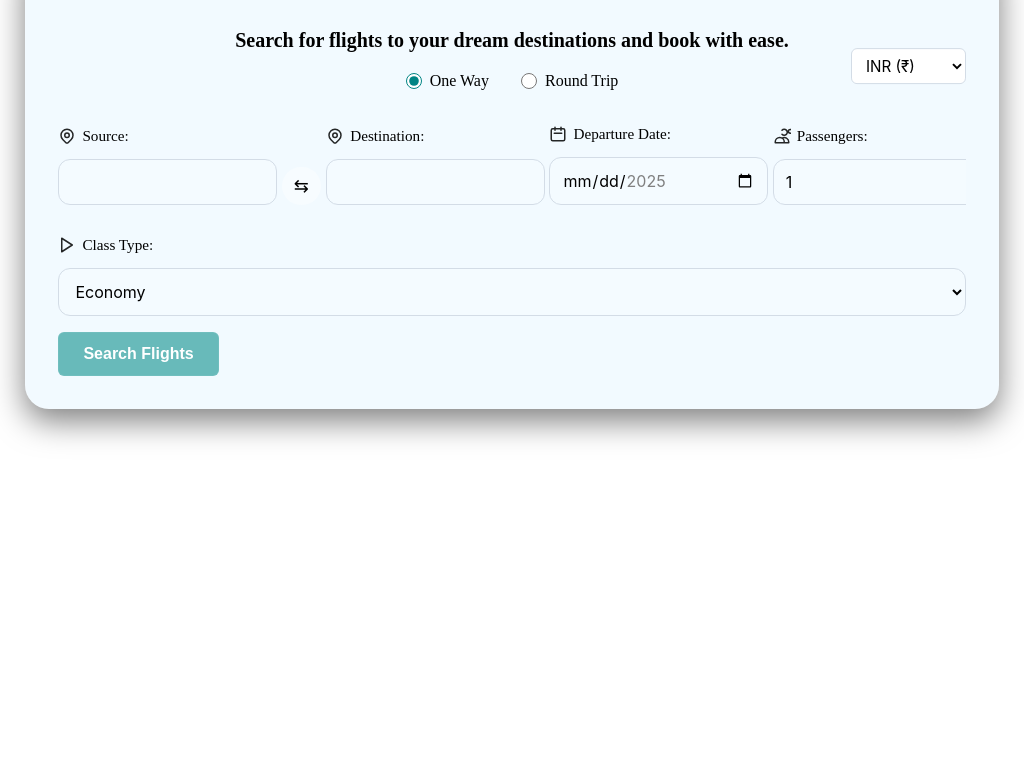
Test: Test for FlightSearchForm /> › should submit the form and display round trip flights on success
The image size is (1024, 768).
In the field labelled "Source:": (168, 182) [58,159,277,205], type "Mumbai"
In the field labelled "Destination:": (436, 182) [326,159,545,205], type "Delhi"
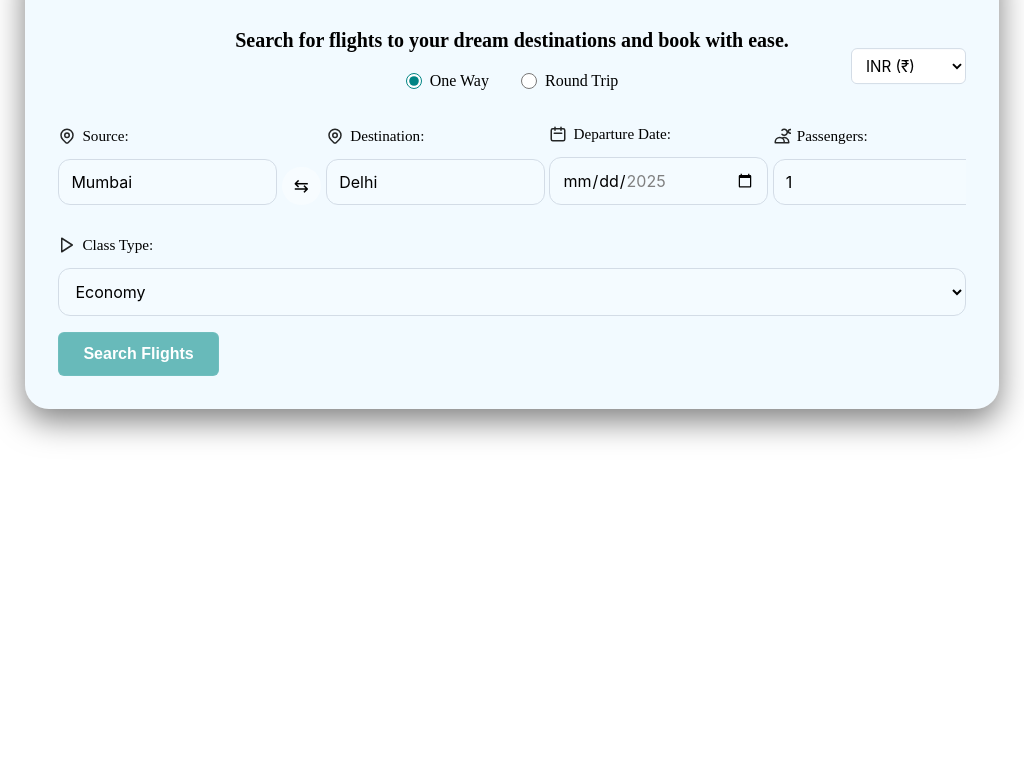
In the date field labelled "Departure Date:": (659, 181) [550,157,768,205], type "2025-08-10"
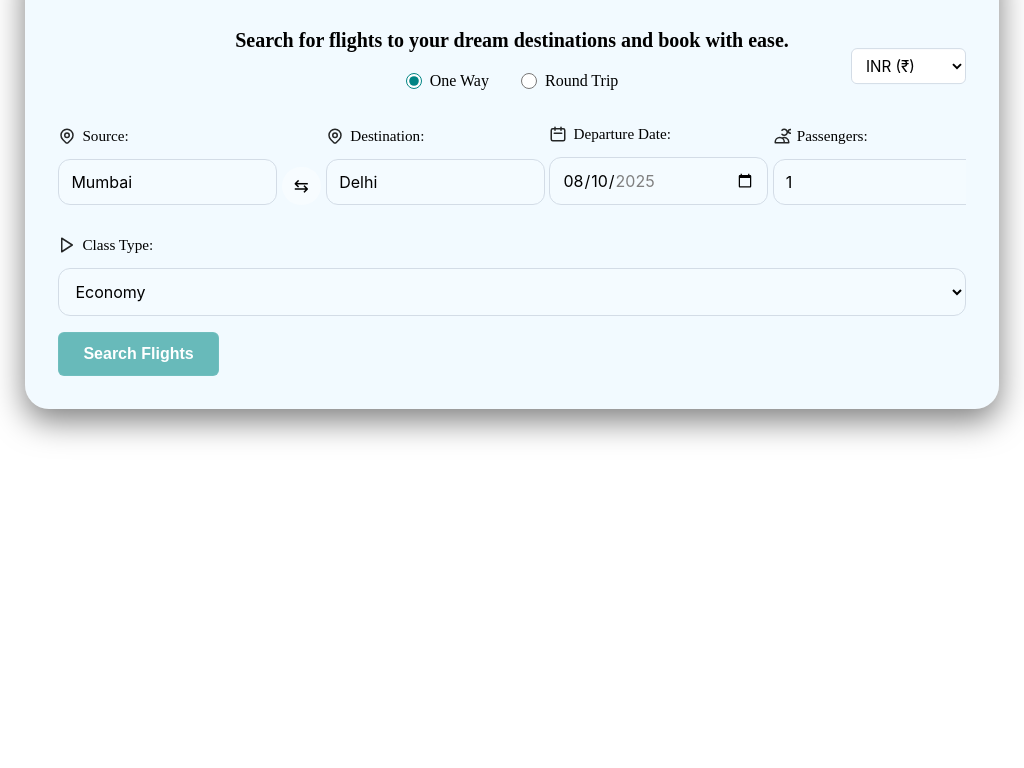
Click the radio button labelled "Round Trip": (529, 81) [521,73,537,89]
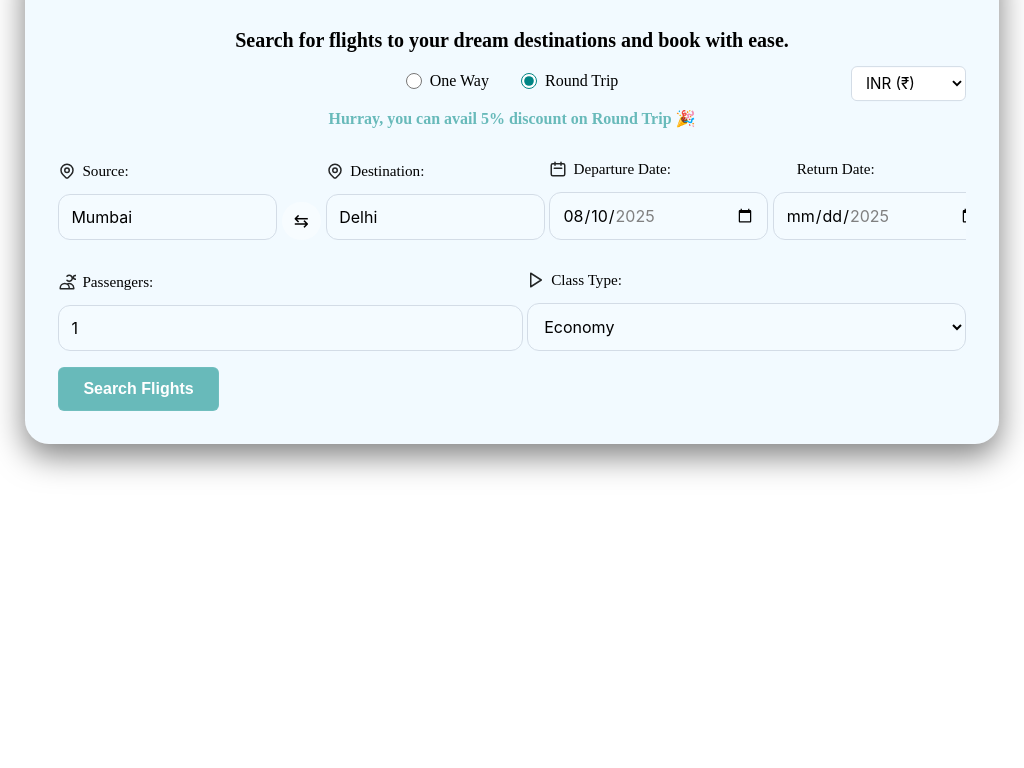
In the date field labelled "Return Date:": (882, 216) [773,192,992,240], type "2025-08-15"
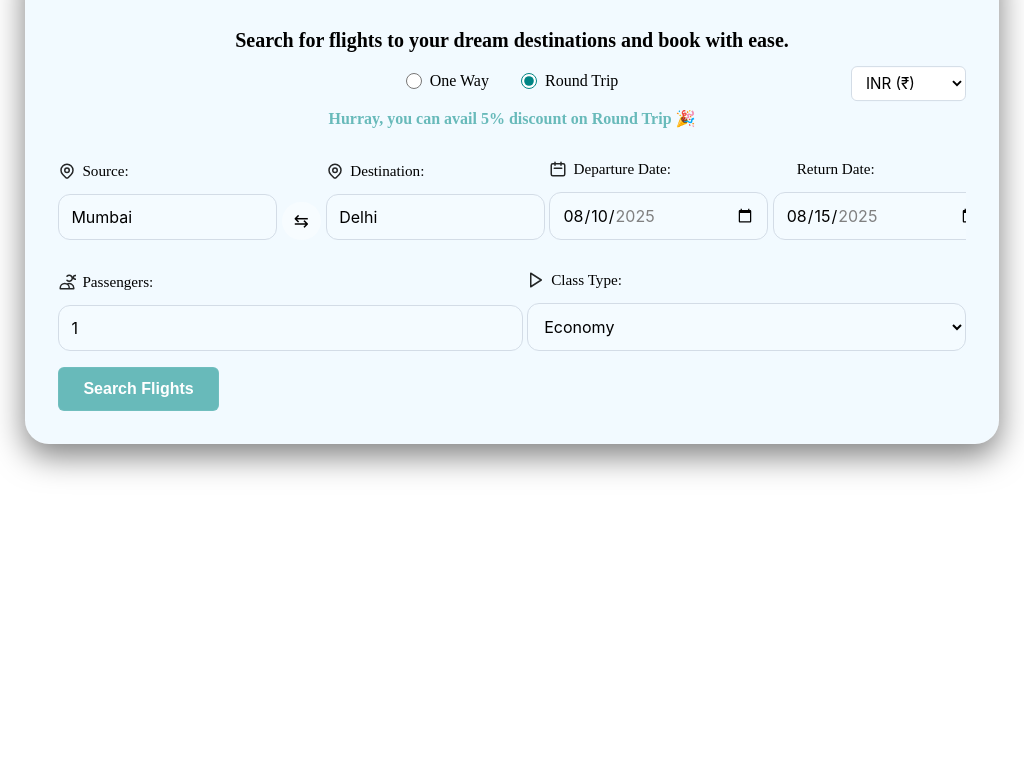
Submit the form from the button "Search Flights", box [58,367,219,411]
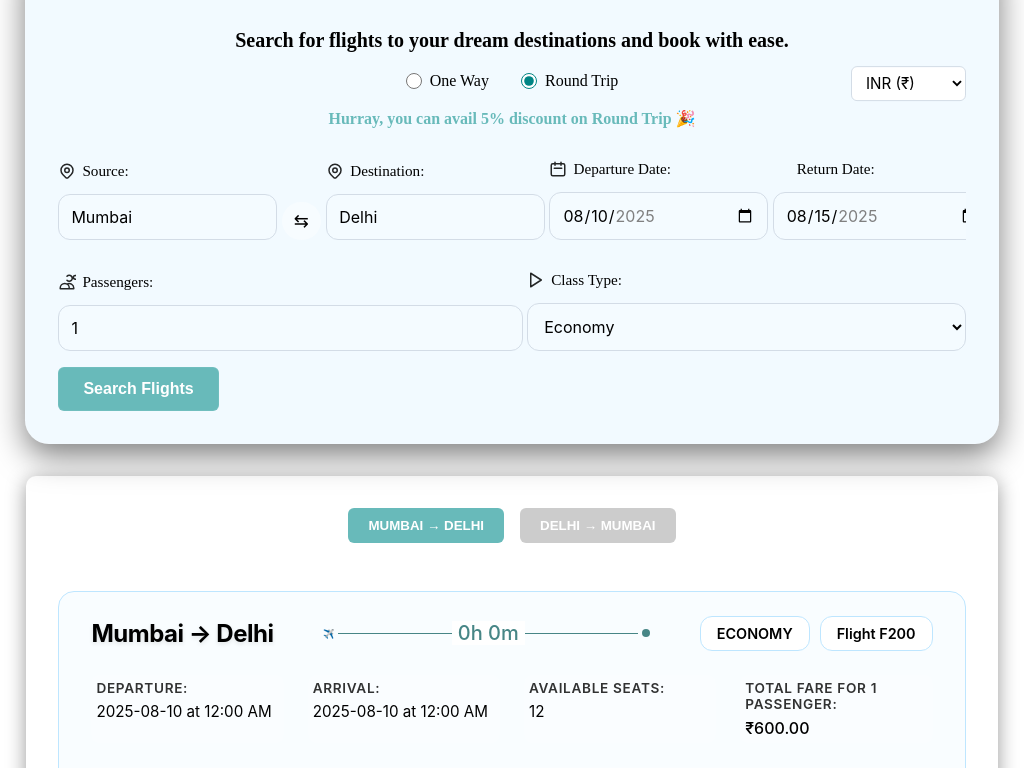
Expected: the text "Flight F200" is shown, [820,616,933,651]
Click the button "DELHI → MUMBAI": (598, 525) [520,508,676,543]
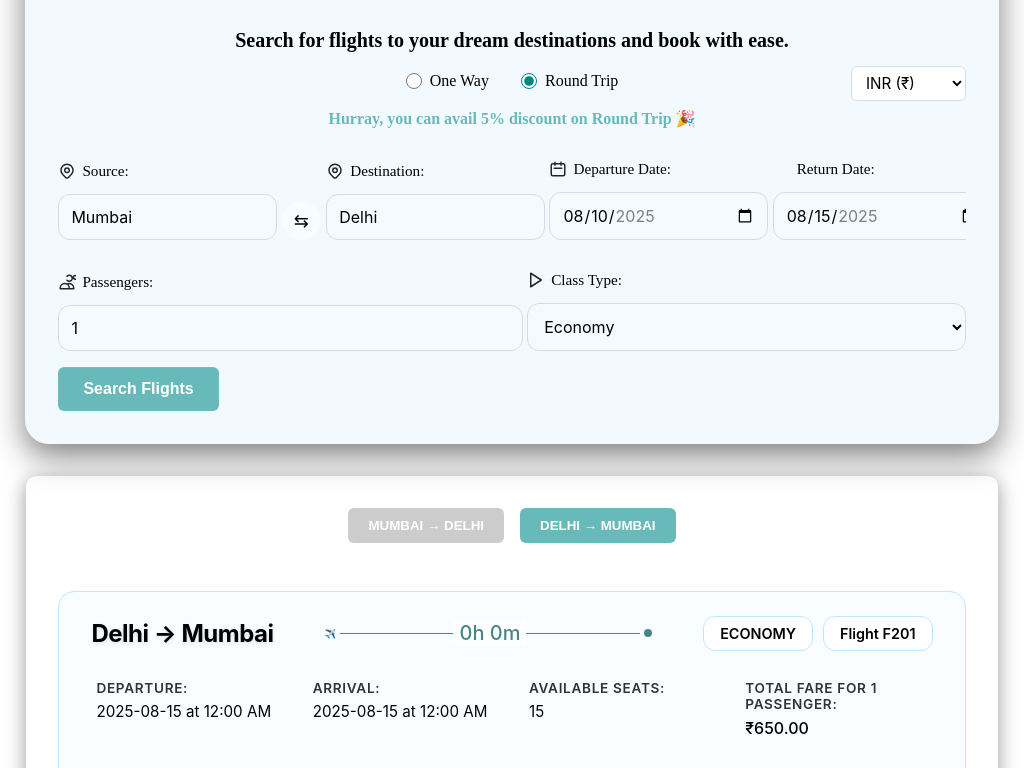
Expected: the text "Flight F201" is shown, [823,616,933,651]
